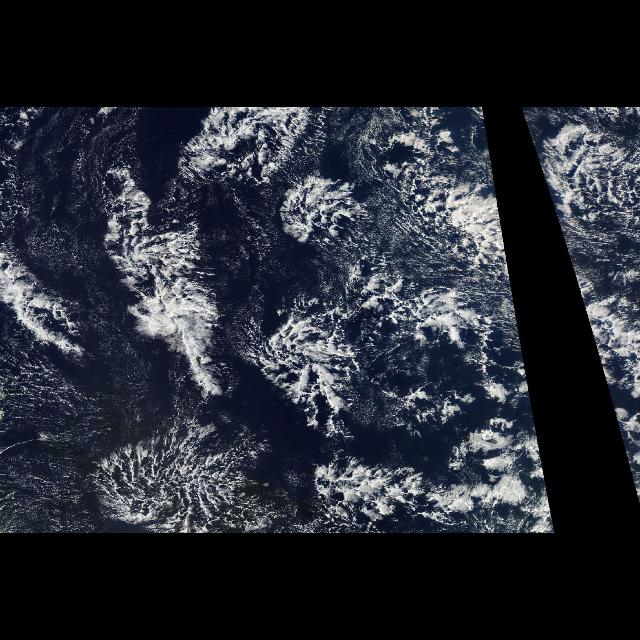Fish: (78, 111, 550, 533), (522, 111, 542, 171)
